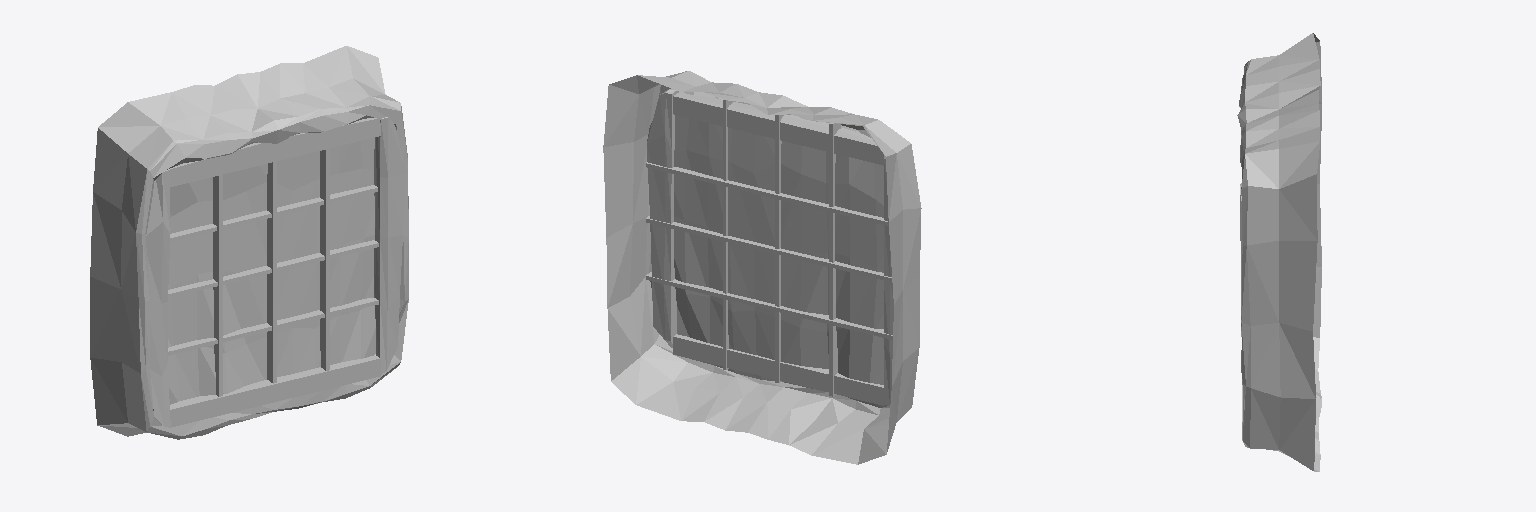
File: board_obj.obj
The picture shows the model from 3 angles: view 1: azimuth 30°, elevation 25°; view 2: azimuth 150°, elevation 25°; view 3: azimuth 270°, elevation 25°; orthographic projection.
Visible parts, largest first — view 1: board_obj:board board_obj:polySurface1, board_obj:Default board_obj:polySurface283 board_obj:polySurface, board_obj:Default board_obj:crossbeam_06 board_obj:polySurface1, board_obj:Default board_obj:crossbeam_08 board_obj:polySurface1, board_obj:Default board_obj:crossbeam_07 board_obj:polySurface1, board_obj:Default board_obj:crossbeam_01 board_obj:polySurface1, board_obj:Default board_obj:crossbeam_02 board_obj:polySurface1, board_obj:Default board_obj:crossbeam_03 board_obj:polySurface1, board_obj:Default board_obj:crossbeam_04 board_obj:polySurface1, board_obj:Default board_obj:crossbeam_05 board_obj:polySurface1, board_obj:Default board_obj:crossbeam_09 board_obj:polySurface1; view 2: board_obj:board board_obj:polySurface1, board_obj:Default board_obj:polySurface283 board_obj:polySurface, board_obj:Default board_obj:crossbeam_07 board_obj:polySurface1, board_obj:Default board_obj:crossbeam_06 board_obj:polySurface1, board_obj:Default board_obj:crossbeam_03 board_obj:polySurface1, board_obj:Default board_obj:crossbeam_05 board_obj:polySurface1, board_obj:Default board_obj:crossbeam_09 board_obj:polySurface1, board_obj:Default board_obj:crossbeam_04 board_obj:polySurface1, board_obj:Default board_obj:crossbeam_08 board_obj:polySurface1, board_obj:Default board_obj:crossbeam_02 board_obj:polySurface1, board_obj:Default board_obj:crossbeam_01 board_obj:polySurface1; view 3: board_obj:board board_obj:polySurface1.
Part boxes in pixels (bbox=[...]): board_obj:board board_obj:polySurface1: bbox=[90, 46, 408, 439]; board_obj:Default board_obj:polySurface283 board_obj:polySurface: bbox=[374, 117, 406, 374]; board_obj:Default board_obj:crossbeam_06 board_obj:polySurface1: bbox=[170, 356, 380, 427]; board_obj:Default board_obj:crossbeam_08 board_obj:polySurface1: bbox=[146, 169, 170, 427]; board_obj:Default board_obj:crossbeam_07 board_obj:polySurface1: bbox=[170, 118, 380, 186]; board_obj:Default board_obj:crossbeam_01 board_obj:polySurface1: bbox=[320, 149, 329, 370]; board_obj:Default board_obj:crossbeam_02 board_obj:polySurface1: bbox=[267, 161, 276, 383]; board_obj:Default board_obj:crossbeam_03 board_obj:polySurface1: bbox=[213, 175, 222, 396]; board_obj:Default board_obj:crossbeam_04 board_obj:polySurface1: bbox=[168, 240, 378, 297]; board_obj:Default board_obj:crossbeam_05 board_obj:polySurface1: bbox=[168, 298, 378, 355]; board_obj:Default board_obj:crossbeam_09 board_obj:polySurface1: bbox=[170, 185, 377, 241]; board_obj:board board_obj:polySurface1: bbox=[603, 71, 921, 464]; board_obj:Default board_obj:polySurface283 board_obj:polySurface: bbox=[647, 89, 678, 347]; board_obj:Default board_obj:crossbeam_07 board_obj:polySurface1: bbox=[673, 92, 883, 165]; board_obj:Default board_obj:crossbeam_06 board_obj:polySurface1: bbox=[673, 334, 883, 405]; board_obj:Default board_obj:crossbeam_03 board_obj:polySurface1: bbox=[829, 123, 840, 396]; board_obj:Default board_obj:crossbeam_05 board_obj:polySurface1: bbox=[646, 272, 892, 339]; board_obj:Default board_obj:crossbeam_09 board_obj:polySurface1: bbox=[646, 162, 888, 225]; board_obj:Default board_obj:crossbeam_04 board_obj:polySurface1: bbox=[646, 216, 891, 281]; board_obj:Default board_obj:crossbeam_08 board_obj:polySurface1: bbox=[884, 155, 893, 405]; board_obj:Default board_obj:crossbeam_02 board_obj:polySurface1: bbox=[775, 115, 783, 382]; board_obj:Default board_obj:crossbeam_01 board_obj:polySurface1: bbox=[723, 100, 732, 369]; board_obj:board board_obj:polySurface1: bbox=[1237, 33, 1321, 471].
Bounding box in the file's own units: 45.22 × 50.07 × 11.41.